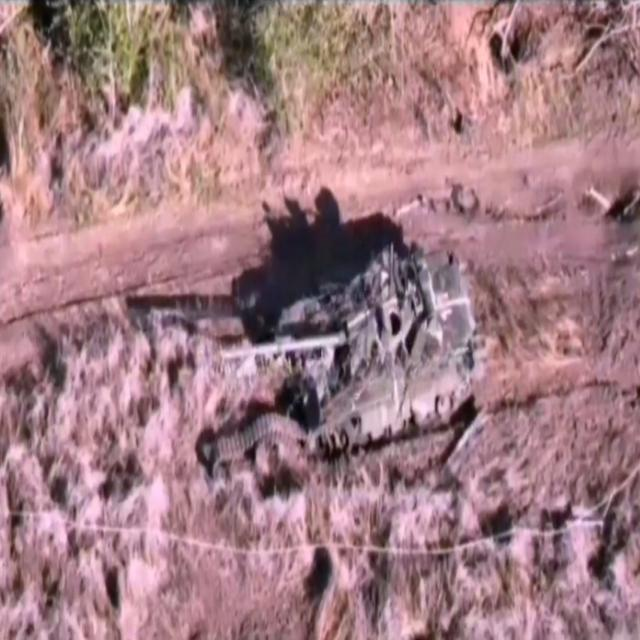MBT: (221, 239, 478, 455)
